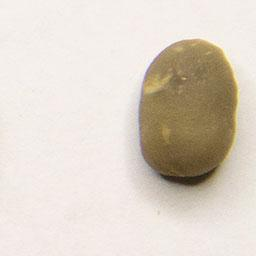peaberry: (136, 35, 241, 181)
